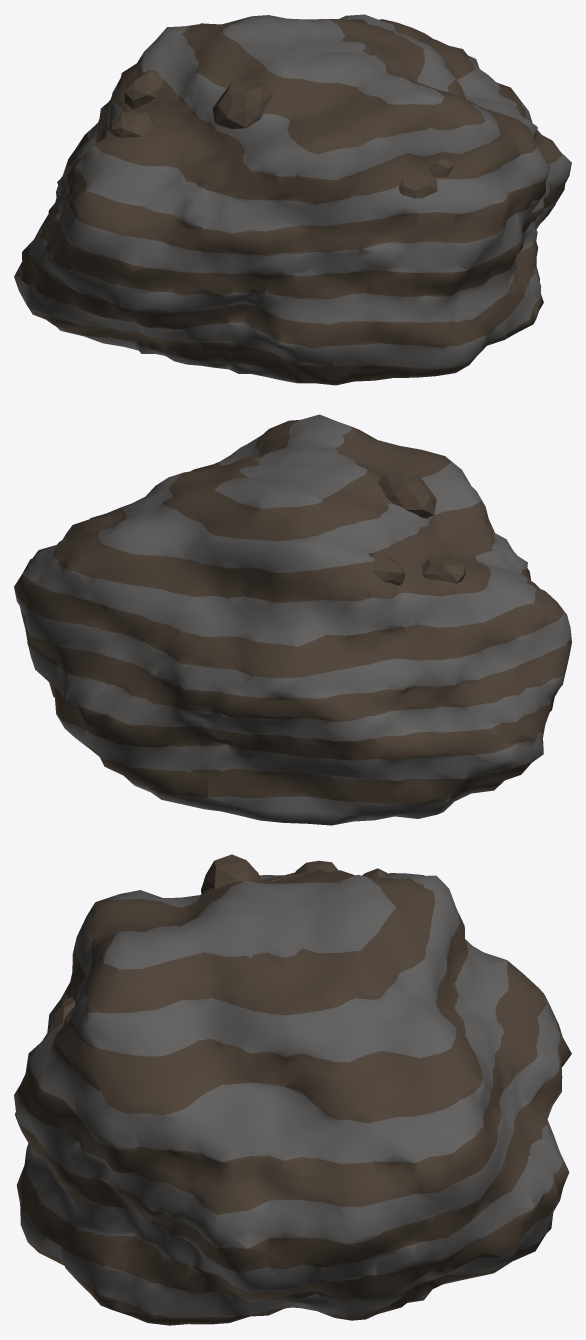
File: lignite_deep.glb
3 views of the same model, one above another, from view 1: azimuth 30°, elevation 25°; view 2: azimuth 150°, elevation 25°; view 3: azimuth 270°, elevation 25° (orthographic). The views are drawn at different scales.
Parts seen in each view (by area): view 1: lignite_deep; view 2: lignite_deep; view 3: lignite_deep.
Boxes of the visible parts, x1=… form: lignite_deep: x1=14, y1=14, x2=571, y2=385; lignite_deep: x1=14, y1=414, x2=571, y2=825; lignite_deep: x1=14, y1=854, x2=571, y2=1325.
Bounding box in the file's own units: 2.09 × 1.03 × 1.64.
